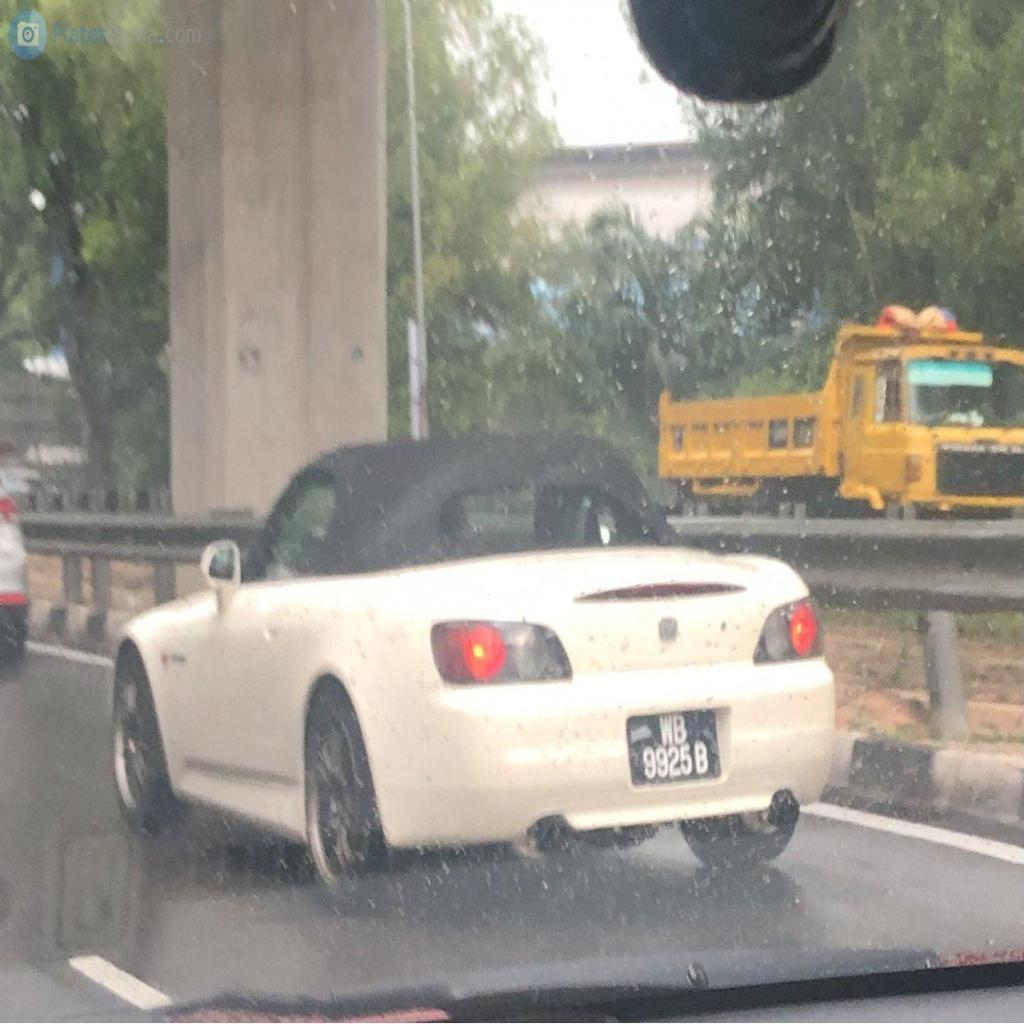car: (113, 436, 833, 880)
car plate: (627, 710, 720, 782)
